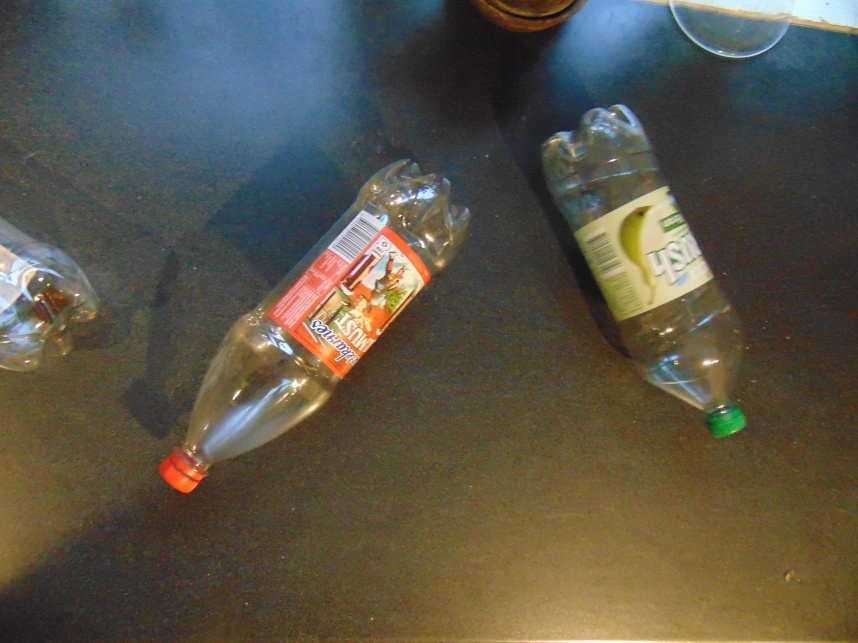plastic_bottle: (155, 158, 474, 499), (542, 106, 746, 436), (1, 206, 103, 373)
